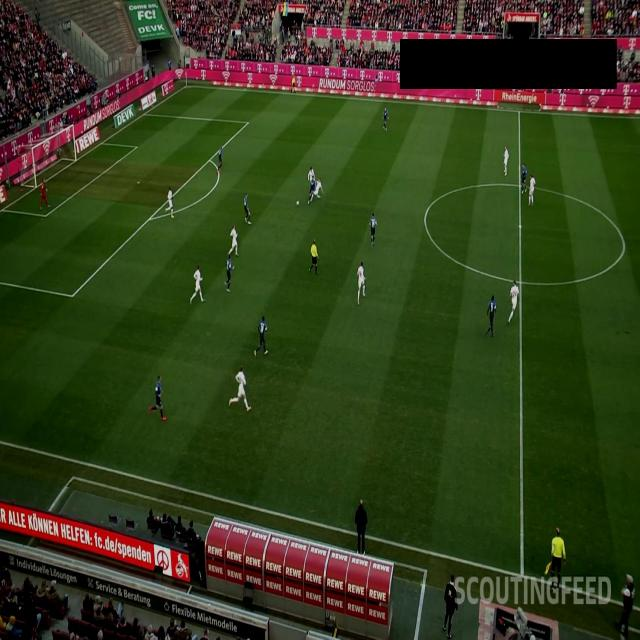ball: (296, 199, 300, 207)
goalkeeper: (39, 178, 49, 210)
player: (228, 366, 252, 412), (148, 374, 166, 420), (190, 265, 206, 305), (254, 315, 269, 357), (507, 279, 519, 325), (484, 294, 496, 338), (356, 260, 366, 306), (228, 224, 239, 256), (225, 254, 234, 292), (310, 177, 324, 201), (370, 212, 378, 248), (307, 166, 315, 200), (244, 192, 252, 224), (528, 174, 536, 206), (168, 186, 175, 218), (308, 175, 316, 203), (522, 162, 528, 194), (217, 144, 223, 176), (504, 145, 509, 177), (382, 108, 388, 132)
referee: (544, 527, 566, 589), (309, 239, 319, 275), (290, 72, 296, 94)
